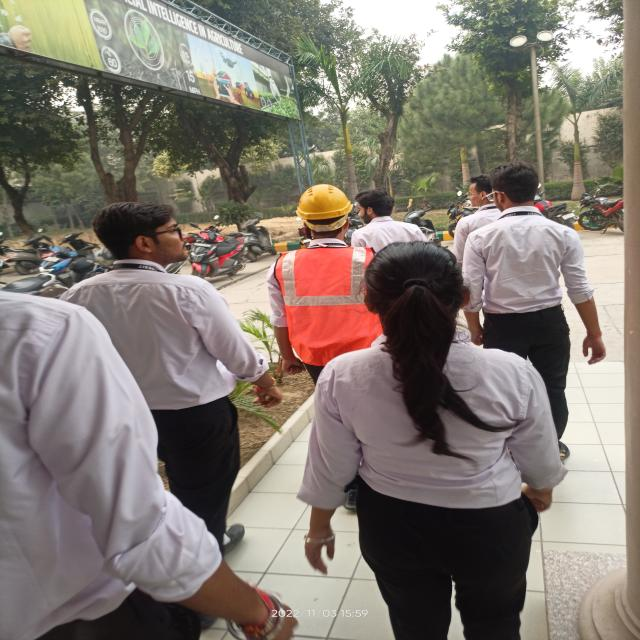safe: (265, 183, 386, 512)
unsafe: (0, 262, 299, 640), (300, 237, 566, 640), (61, 201, 275, 574), (463, 164, 604, 466), (355, 189, 429, 269), (452, 173, 496, 284)
